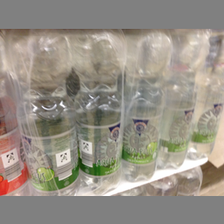water: (5, 30, 80, 195), (70, 30, 127, 194), (156, 30, 208, 170), (122, 30, 170, 181)
